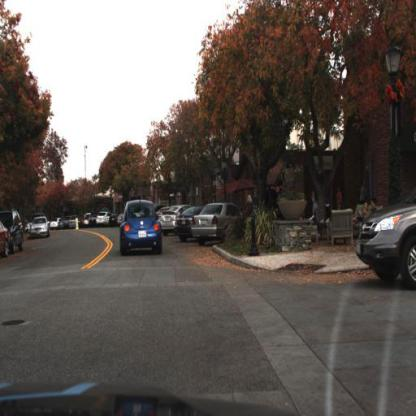car: (356, 198, 416, 289), (119, 190, 166, 262), (193, 203, 246, 248), (2, 208, 25, 253), (175, 206, 202, 244), (1, 215, 12, 260), (162, 207, 179, 236), (30, 217, 52, 239), (97, 211, 110, 227), (51, 217, 61, 230)
pedestrian: (311, 188, 320, 228), (360, 199, 370, 235), (247, 193, 256, 227), (360, 179, 369, 210), (370, 200, 380, 217), (336, 187, 344, 204)
